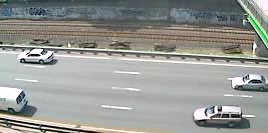car: (191, 103, 244, 129), (1, 82, 30, 116), (15, 46, 59, 67), (229, 72, 268, 95)
